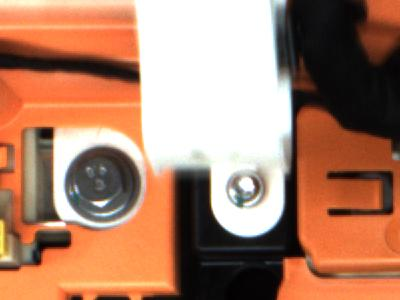nut_b: (61, 146, 141, 225)
screw_m: (219, 171, 272, 216)
